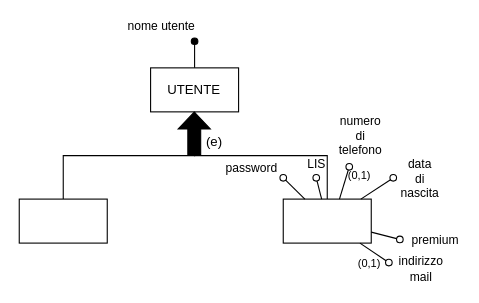
Image size: 479x303. Some labels were removed from this diagram. Each missing label, with the centre of its shape:
"GUEST" goes at point (62, 220).
"REGISTRATO" goes at point (326, 220).
